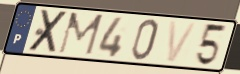0: (129, 18, 161, 63)
4: (97, 16, 124, 59)
5: (194, 22, 228, 68)
M: (56, 11, 106, 57)
V: (166, 19, 199, 64)
X: (26, 9, 71, 55)
